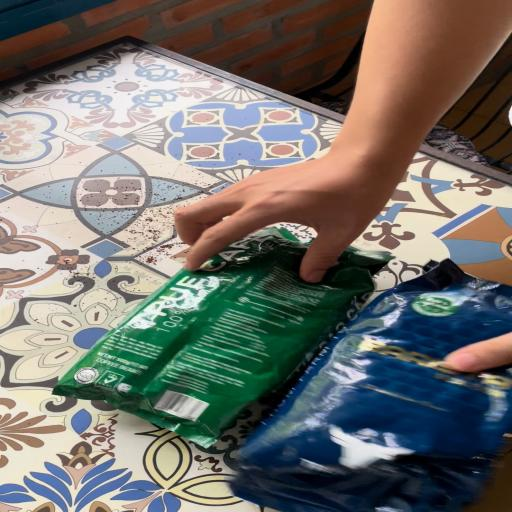cafe_hat: (231, 259, 512, 512)
cafe_xay: (54, 227, 388, 447)
